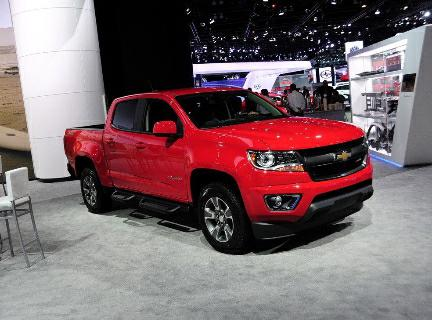雪佛兰-库罗德: (58, 80, 386, 258)
